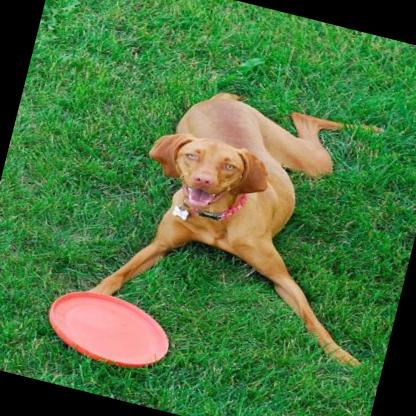vizsla: (79, 66, 415, 369)
